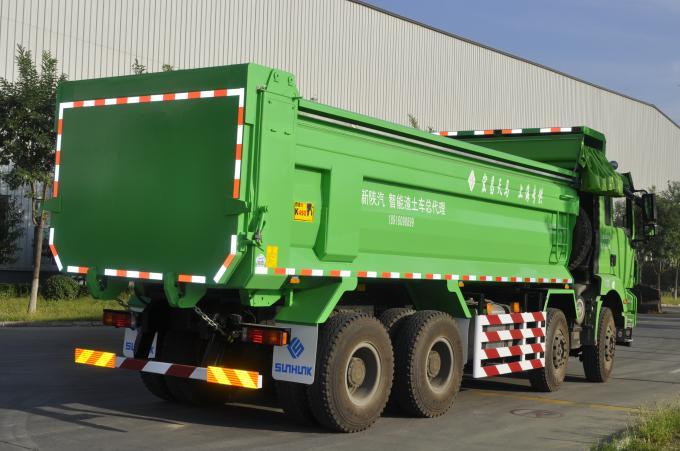truck: (36, 34, 652, 435)
